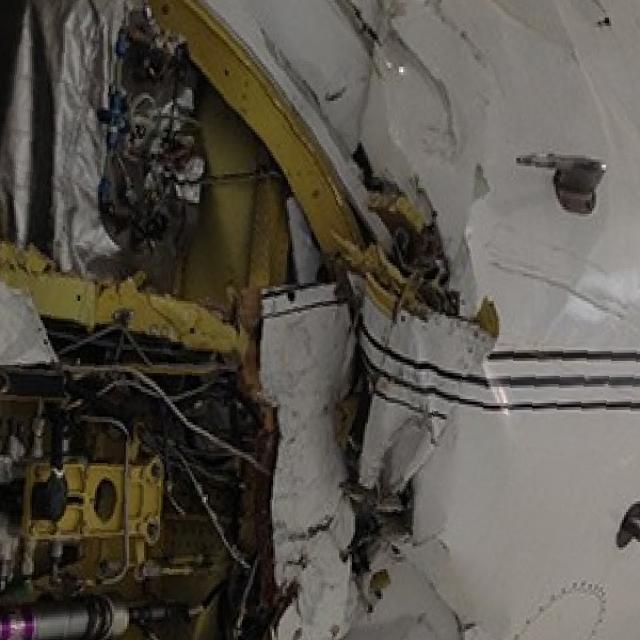crack: (334, 475, 428, 560), (422, 577, 478, 640)
